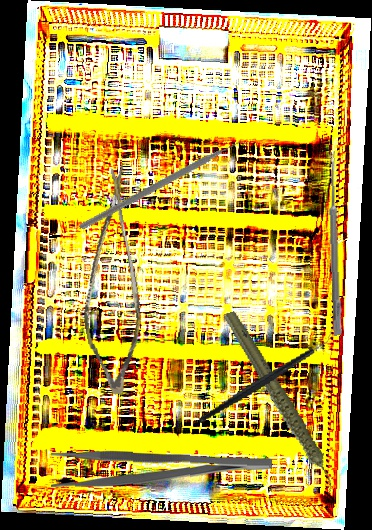Chopper: (79, 91, 255, 284), (185, 327, 348, 424)
Dressing Forceps: (50, 449, 273, 493)
Handpiece: (222, 298, 337, 509)
Micro Scissor: (55, 160, 166, 398)
Surgical Spoon: (327, 151, 343, 336)
